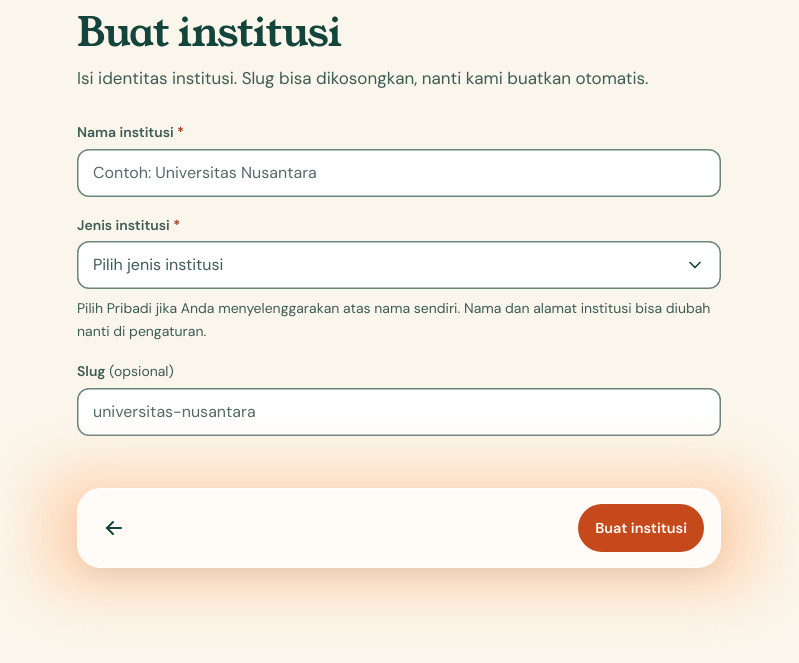
Test case: the workspace create form › shows a username clash on the name field and clears it when the name changes
Type "Ruang Uji" into the field labelled "Nama institusi *". click: [399, 173]
box: [77, 149, 721, 197]
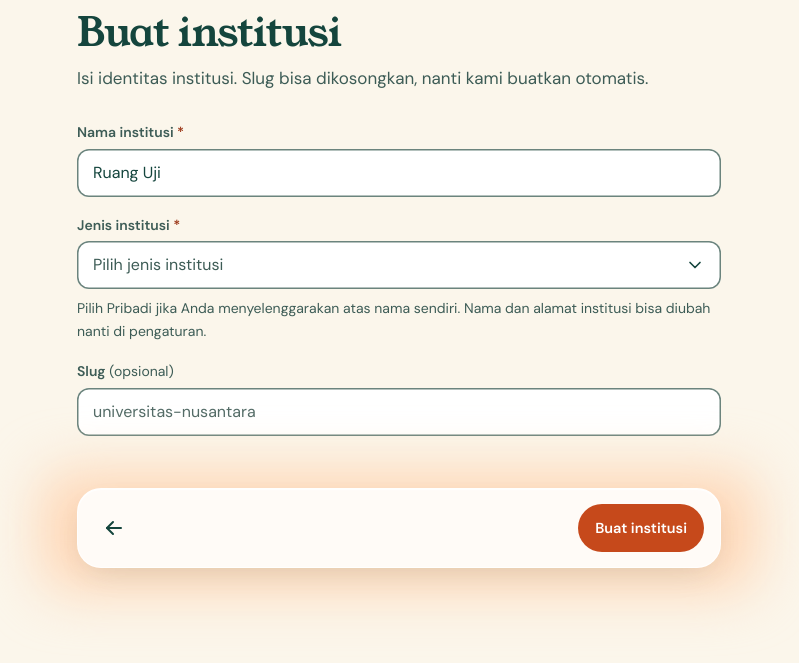
Click the dropdown named "Jenis institusi (wajib)". click: [158, 265]
box: [77, 241, 721, 289]
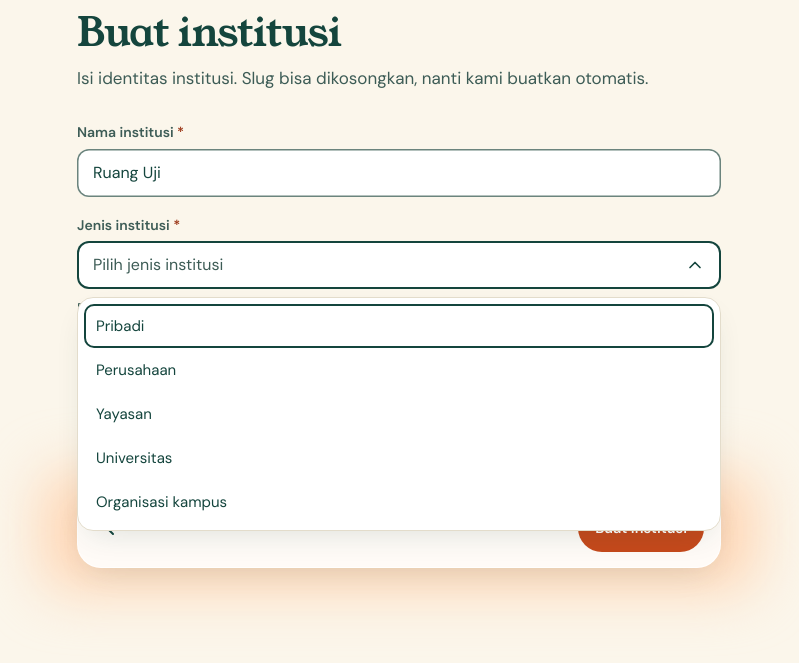
Click the option "Pribadi". click: [120, 326]
box: [96, 316, 144, 336]
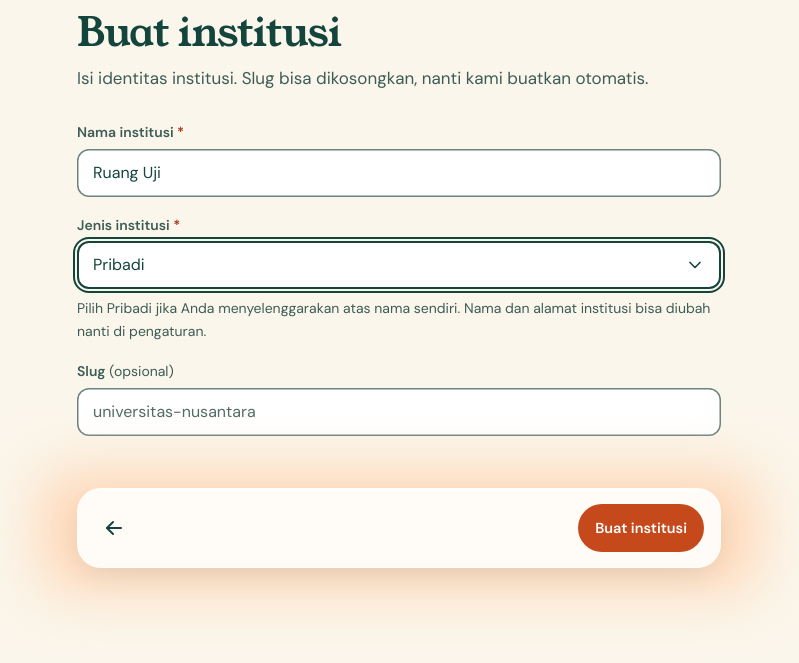
Click the button "Buat institusi". click: [641, 528]
box: [578, 504, 704, 552]
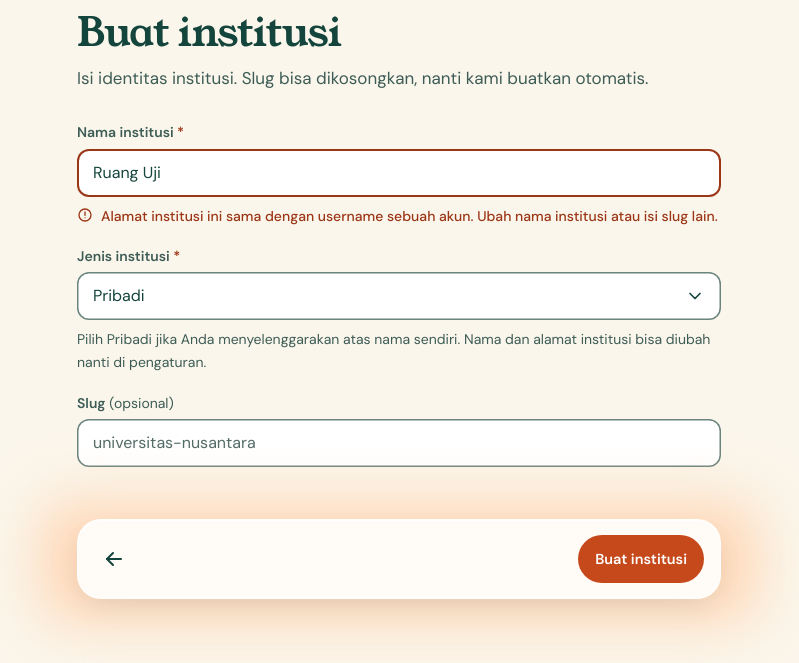
Check: the text "Alamat institusi ini sama dengan username sebuah akun. Ubah nama institusi atau isi slug lain." is shown, box [101, 207, 718, 225]
Replace the text in the field labelled "Nama institusi *" with "Ruang Uji Baru". click: [399, 173]
box: [77, 149, 721, 197]
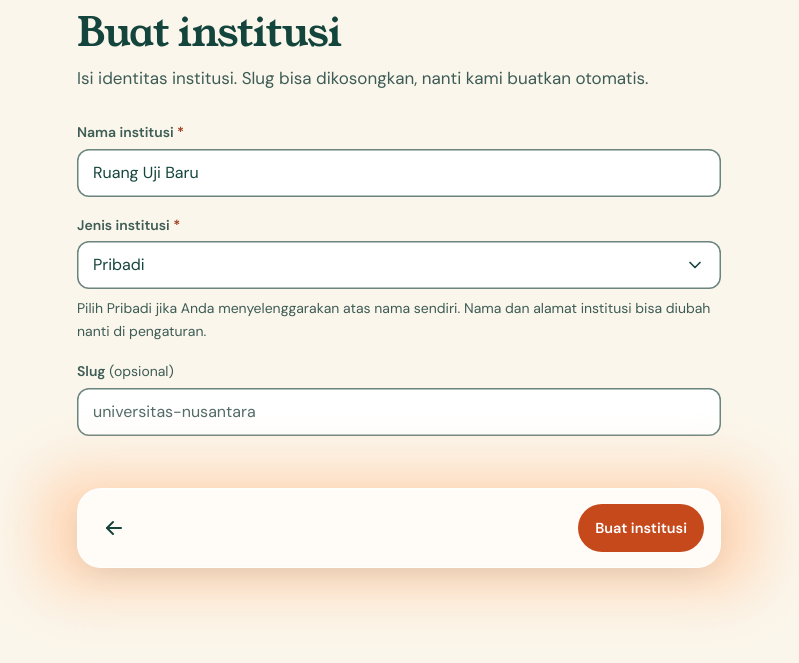
Check: the text "Alamat institusi ini sama dengan username sebuah akun. Ubah nama institusi atau isi slug lain." is gone
